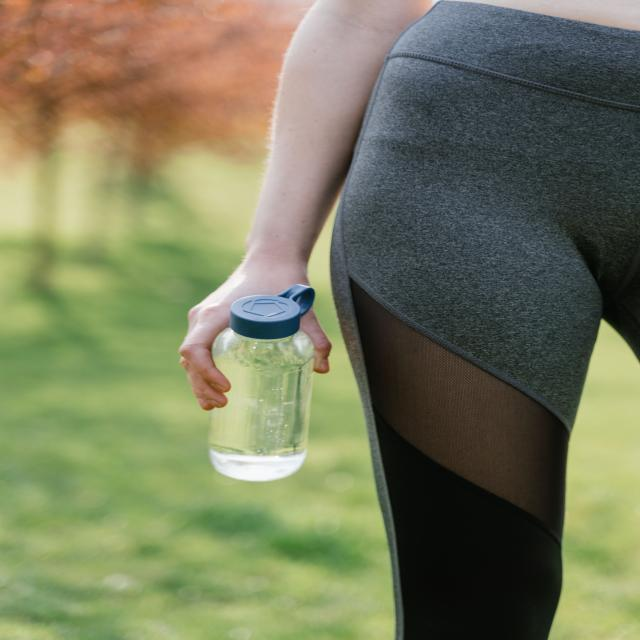Bottle: (210, 285, 314, 481)
